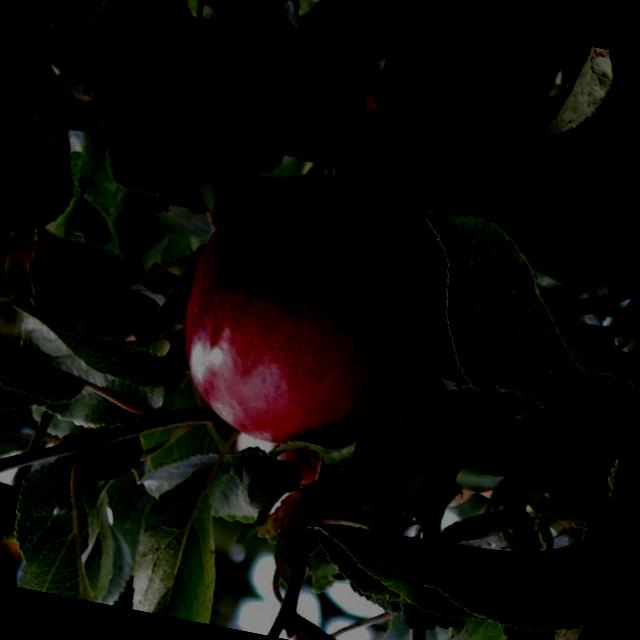Apple: (162, 153, 466, 473), (222, 393, 456, 558)
